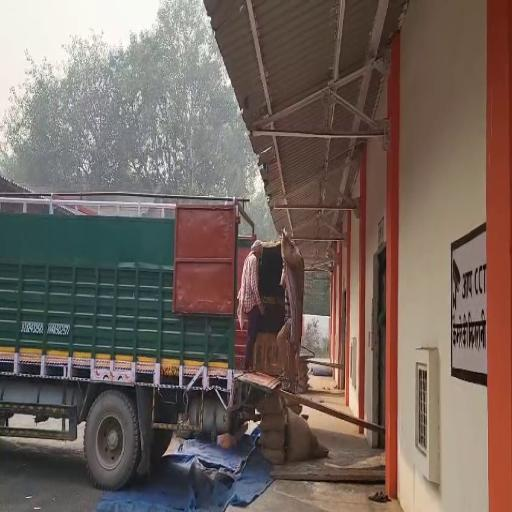bag: (281, 222, 307, 291)
